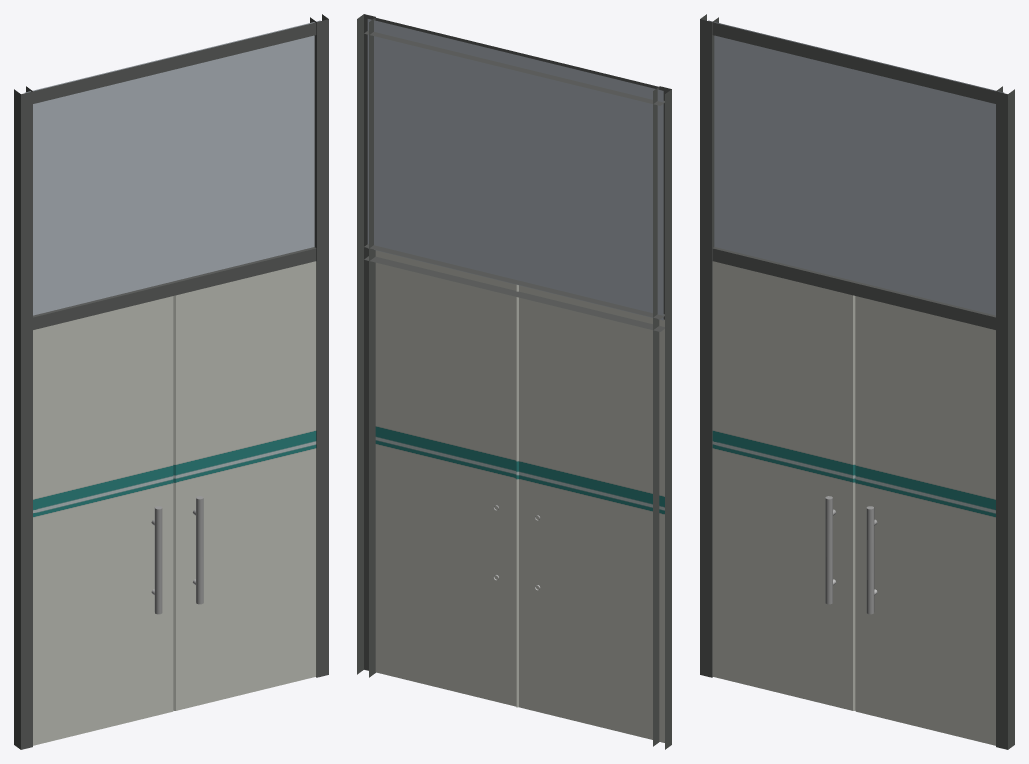
Rendered from men.FBX.
3 views of the same model, side by side, from view 1: azimuth 30°, elevation 25°; view 2: azimuth 150°, elevation 25°; view 3: azimuth 330°, elevation 25° (orthographic).
Parts seen in each view (by area): view 1: SM_XD_damen; view 2: SM_XD_damen; view 3: SM_XD_damen.
Boxes of the visible parts, x1,y1,x2,y2 form: SM_XD_damen: [14, 14, 328, 749]; SM_XD_damen: [357, 14, 671, 749]; SM_XD_damen: [700, 14, 1014, 749].
Size of the model in its own units: 222 by 451 by 16.45.
1 material, 1 textured.
